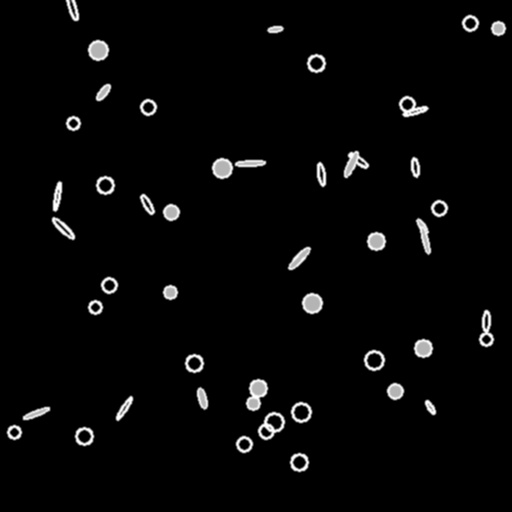pseudomonas: (287, 245, 311, 271), (51, 216, 75, 240), (342, 151, 360, 177), (115, 396, 133, 420), (347, 151, 369, 169), (23, 406, 49, 420), (94, 82, 112, 102), (419, 226, 431, 254), (139, 194, 155, 214), (52, 181, 62, 211), (403, 105, 427, 117), (65, 0, 79, 20), (415, 218, 429, 234), (197, 387, 207, 409), (316, 163, 326, 185), (410, 157, 420, 177), (424, 399, 436, 415), (235, 160, 265, 166), (267, 25, 283, 33), (483, 311, 489, 331)
synechocystis: (292, 403, 310, 421), (303, 294, 321, 312), (265, 413, 283, 431), (213, 159, 231, 177), (365, 351, 383, 369), (89, 41, 107, 59), (97, 177, 113, 193), (291, 454, 307, 470), (368, 233, 384, 249), (308, 55, 324, 71), (250, 380, 266, 396), (415, 340, 431, 356), (186, 355, 202, 371), (76, 428, 92, 444), (141, 100, 155, 114), (388, 384, 402, 398), (259, 424, 273, 438), (432, 201, 446, 215), (463, 16, 477, 30), (164, 205, 178, 219), (102, 278, 116, 292), (237, 437, 251, 451), (400, 97, 414, 111), (480, 333, 492, 345), (8, 426, 20, 438), (247, 397, 259, 409), (89, 301, 101, 313), (492, 22, 504, 34), (164, 286, 176, 298), (67, 117, 79, 129)
